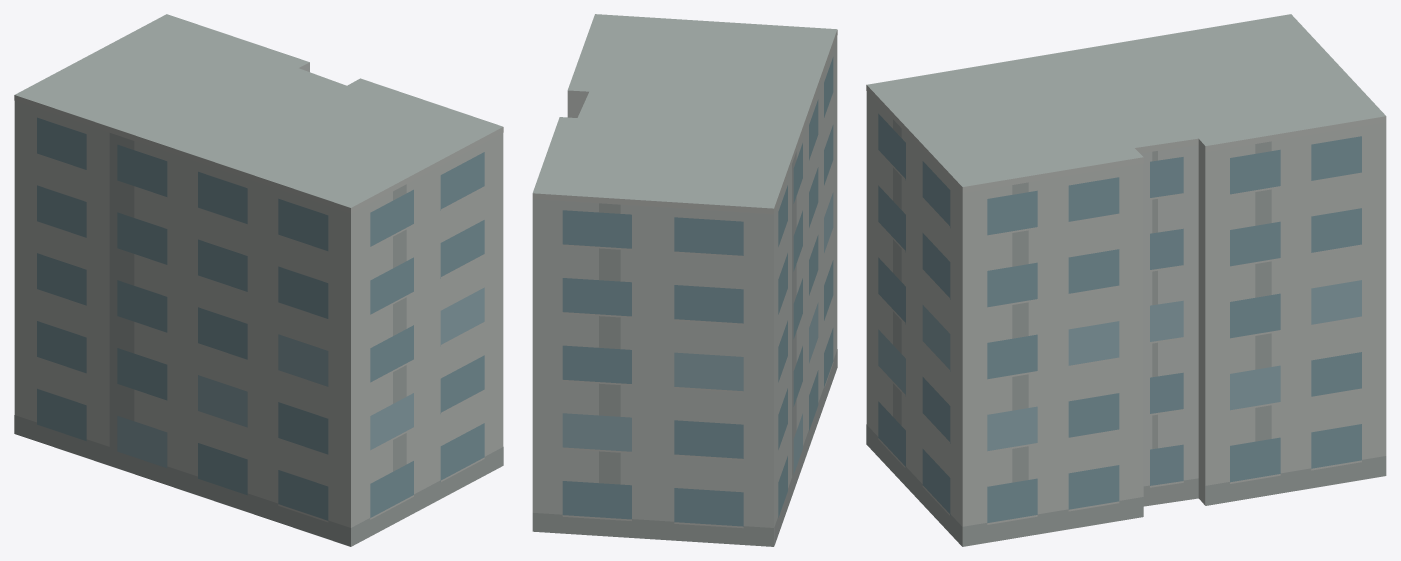
File: survey-upis-32885967.glb
3 views of the same model, side by side, from view 1: azimuth 30°, elevation 25°; view 2: azimuth 150°, elevation 25°; view 3: azimuth 270°, elevation 25° (orthographic). The views are drawn at different scales.
Parts seen in each view (by area): view 1: survey-upis-32885967.tmp; view 2: survey-upis-32885967.tmp; view 3: survey-upis-32885967.tmp.
Boxes of the visible parts, <box> form: survey-upis-32885967.tmp: <box>14,14,503,546</box>; survey-upis-32885967.tmp: <box>532,14,837,546</box>; survey-upis-32885967.tmp: <box>866,14,1386,546</box>.
Bounding box in the file's own units: 14.66 × 14.2 × 18.6.
